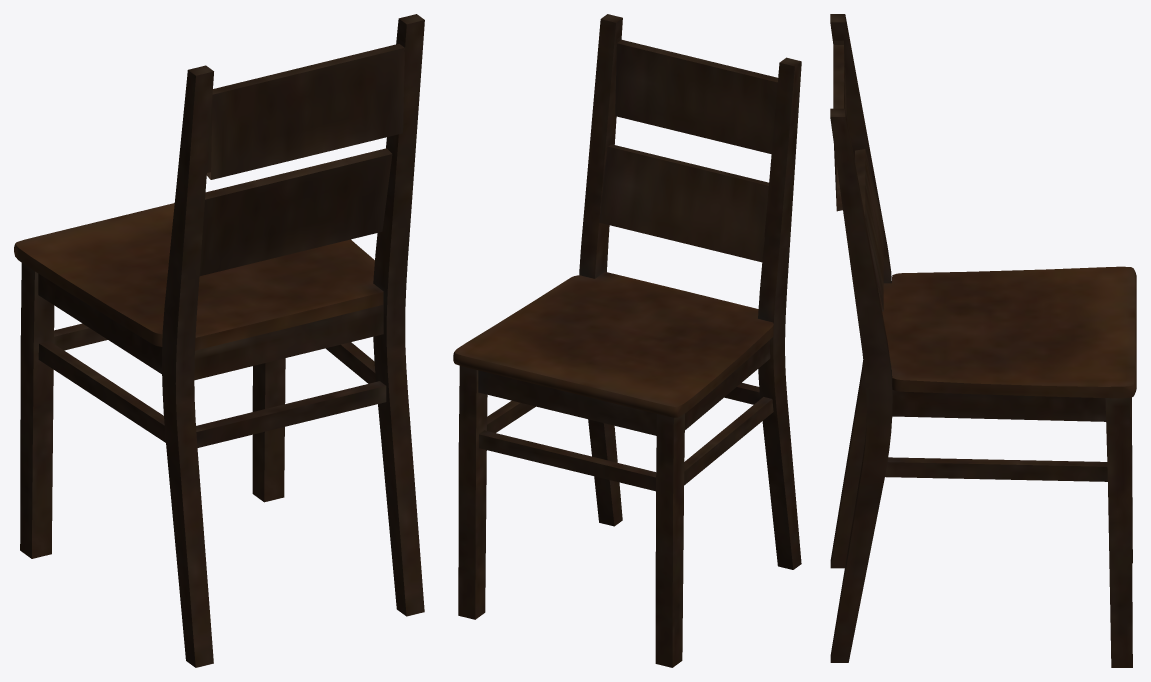
File: chaira.glb
The picture shows the model from 3 angles, left to right: view 1: azimuth 30°, elevation 25°; view 2: azimuth 150°, elevation 25°; view 3: azimuth 270°, elevation 25°; orthographic projection. The views are drawn at different scales.
Visible parts, largest first — view 1: Backplanks_2_low, Seat_low, Backplanks_2_low001; view 2: Backplanks_2_low, Seat_low, Backplanks_2_low001; view 3: Backplanks_2_low, Seat_low, Backplanks_2_low001.
Boxes of the visible parts, x1,y1,x2,y2 form: Backplanks_2_low: [20, 14, 424, 667]; Seat_low: [14, 203, 383, 350]; Backplanks_2_low001: [199, 148, 392, 275]; Backplanks_2_low: [458, 14, 801, 667]; Seat_low: [453, 272, 773, 417]; Backplanks_2_low001: [599, 144, 768, 262]; Backplanks_2_low: [830, 14, 1132, 667]; Seat_low: [882, 266, 1136, 398]; Backplanks_2_low001: [855, 149, 883, 311].
Size of the model in its own units: 0.5086 by 1.08 by 0.5485.
1 material, 1 textured.
